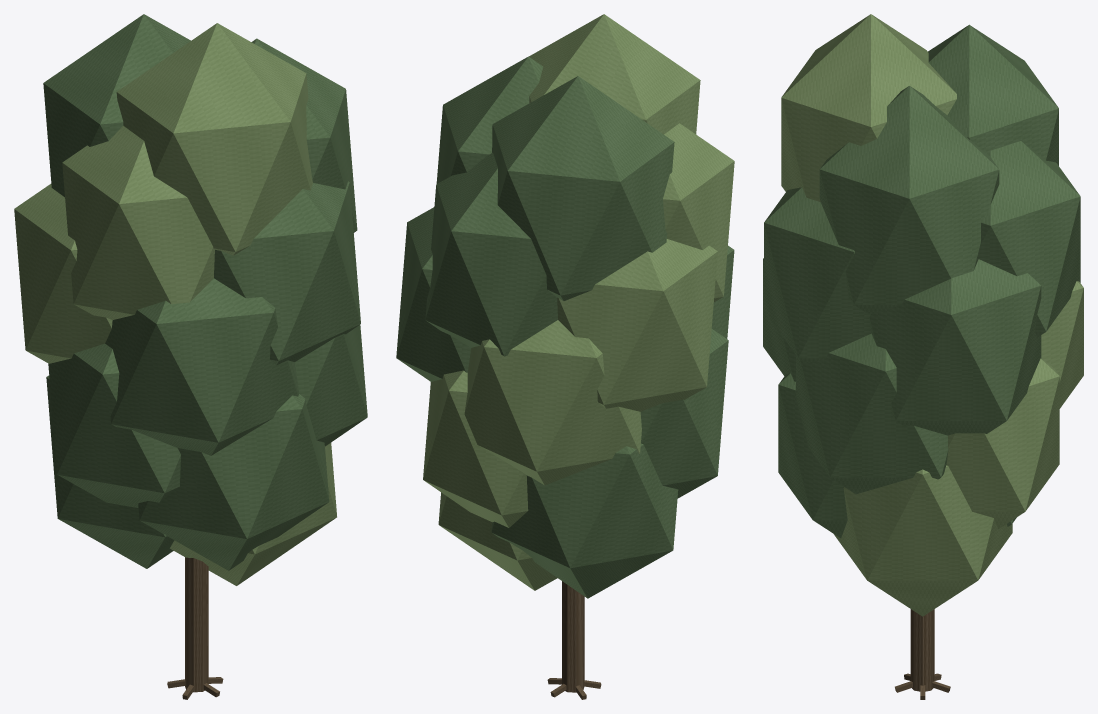
File: PoplarTree.fbx
3 views of the same model, side by side, from view 1: azimuth 30°, elevation 25°; view 2: azimuth 150°, elevation 25°; view 3: azimuth 270°, elevation 25° (orthographic). The views are drawn at different scales.
Visible parts, largest first — view 1: PoplarTree; view 2: PoplarTree; view 3: PoplarTree.
Boxes of the visible parts, x1,y1,x2,y2 form: PoplarTree: [14, 14, 367, 699]; PoplarTree: [396, 14, 734, 699]; PoplarTree: [763, 14, 1083, 699].
Size of the model in its own units: 504 by 1052 by 455.
